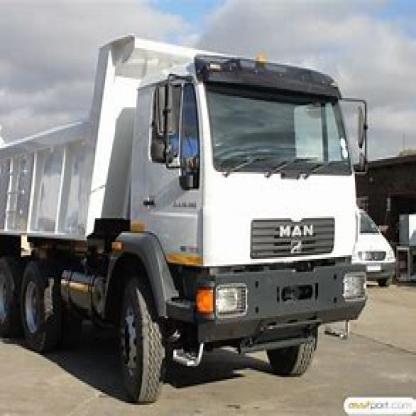dump_truck: (3, 26, 370, 397)
